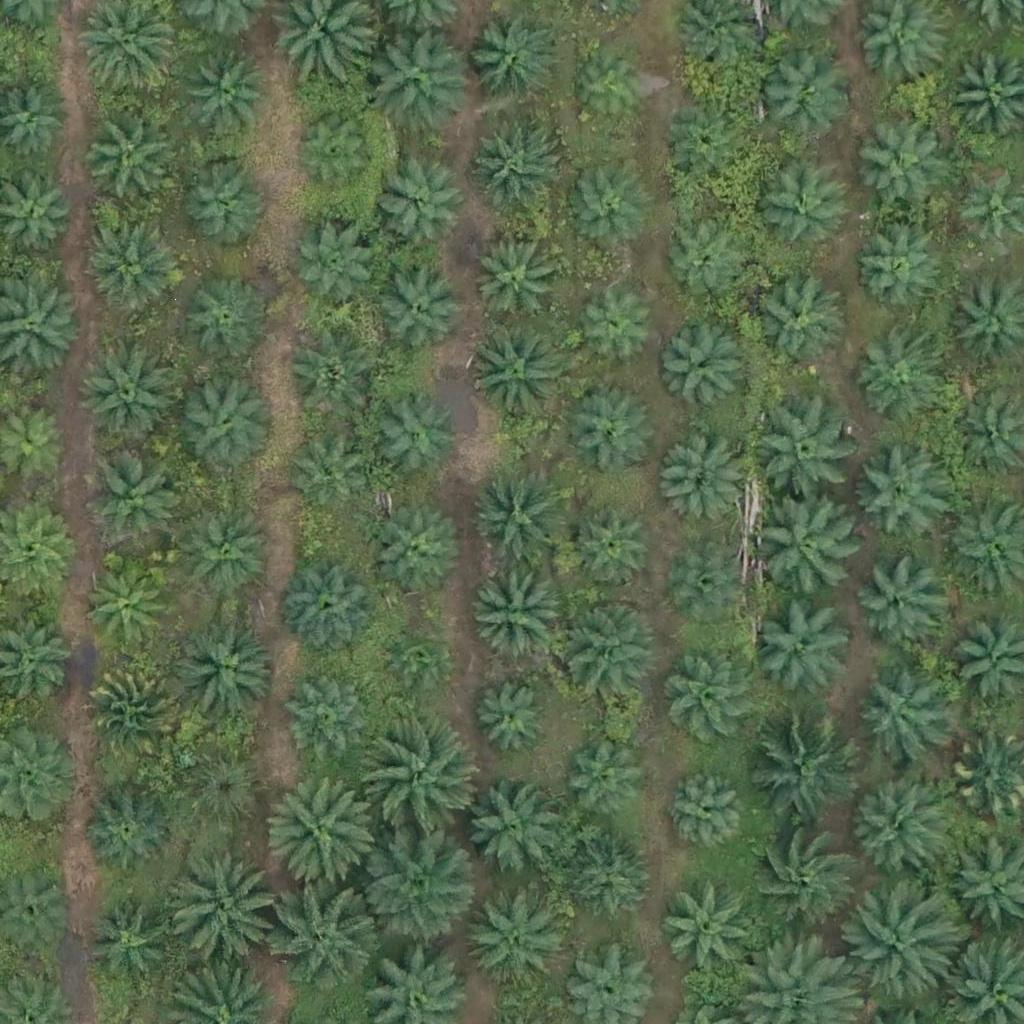Kelapa_Sawit: (165, 855, 278, 969), (748, 493, 861, 607), (360, 832, 473, 945), (271, 878, 384, 991), (267, 774, 380, 887), (847, 893, 959, 1007), (748, 717, 860, 831), (367, 722, 479, 836), (744, 824, 856, 937), (760, 598, 860, 699), (659, 882, 759, 983), (554, 598, 654, 699), (463, 886, 563, 987), (281, 558, 381, 659), (173, 615, 273, 716), (82, 444, 182, 545), (85, 218, 185, 319), (175, 367, 275, 468), (173, 500, 273, 601), (372, 30, 472, 131), (467, 326, 567, 427), (470, 466, 570, 567), (745, 276, 845, 377), (760, 401, 860, 502), (850, 113, 950, 214), (843, 780, 943, 880), (468, 565, 568, 665), (462, 781, 562, 881), (86, 662, 186, 762), (77, 346, 177, 446), (851, 439, 951, 539), (661, 768, 749, 857), (471, 19, 559, 108), (853, 558, 941, 646), (854, 674, 942, 762), (669, 658, 757, 746), (563, 731, 651, 819), (175, 748, 263, 836), (80, 894, 168, 982), (284, 679, 372, 767), (80, 564, 168, 652), (85, 787, 173, 875), (180, 158, 268, 246), (181, 278, 269, 366), (295, 222, 383, 310), (288, 336, 376, 424), (373, 165, 461, 253), (377, 266, 465, 354), (369, 395, 457, 483), (471, 125, 559, 213), (667, 104, 755, 192), (758, 52, 846, 140), (754, 164, 842, 252), (852, 229, 940, 317), (183, 44, 270, 133), (566, 836, 653, 924), (85, 116, 172, 204), (286, 431, 373, 519), (289, 113, 376, 201), (376, 511, 463, 599), (474, 239, 561, 327), (569, 503, 656, 591), (569, 385, 656, 473), (576, 281, 663, 369), (564, 158, 651, 246), (663, 221, 750, 309), (662, 330, 749, 418), (659, 438, 746, 526), (851, 336, 938, 424), (574, 52, 649, 128), (473, 681, 548, 757), (673, 548, 748, 624), (384, 625, 446, 688)
